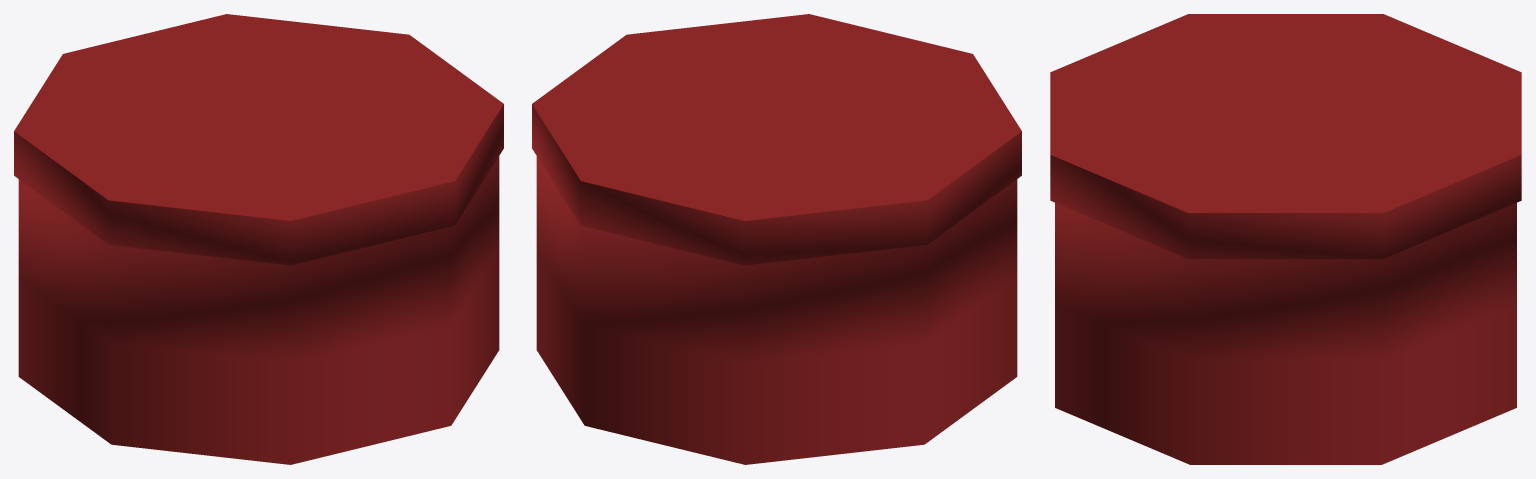
The picture shows the model from 3 angles, left to right: view 1: azimuth 30°, elevation 25°; view 2: azimuth 150°, elevation 25°; view 3: azimuth 270°, elevation 25°; orthographic projection. The views are drawn at different scales.
Visible parts, largest first — view 1: s4_box2_02_low; view 2: s4_box2_02_low; view 3: s4_box2_02_low.
Boxes of the visible parts, <box> form: s4_box2_02_low: <box>14,14,503,464</box>; s4_box2_02_low: <box>532,14,1021,464</box>; s4_box2_02_low: <box>1050,14,1521,464</box>.
Size of the model in its own units: 0.979 by 0.5817 by 0.979.
